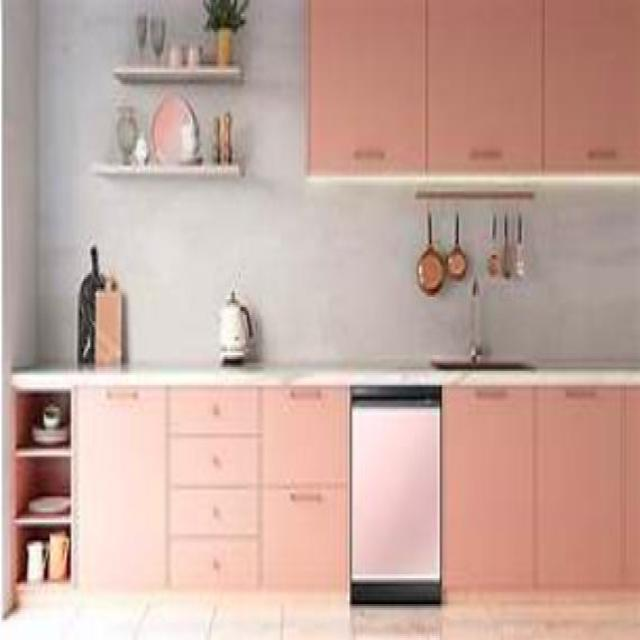dishwasher: (349, 385, 440, 602)
